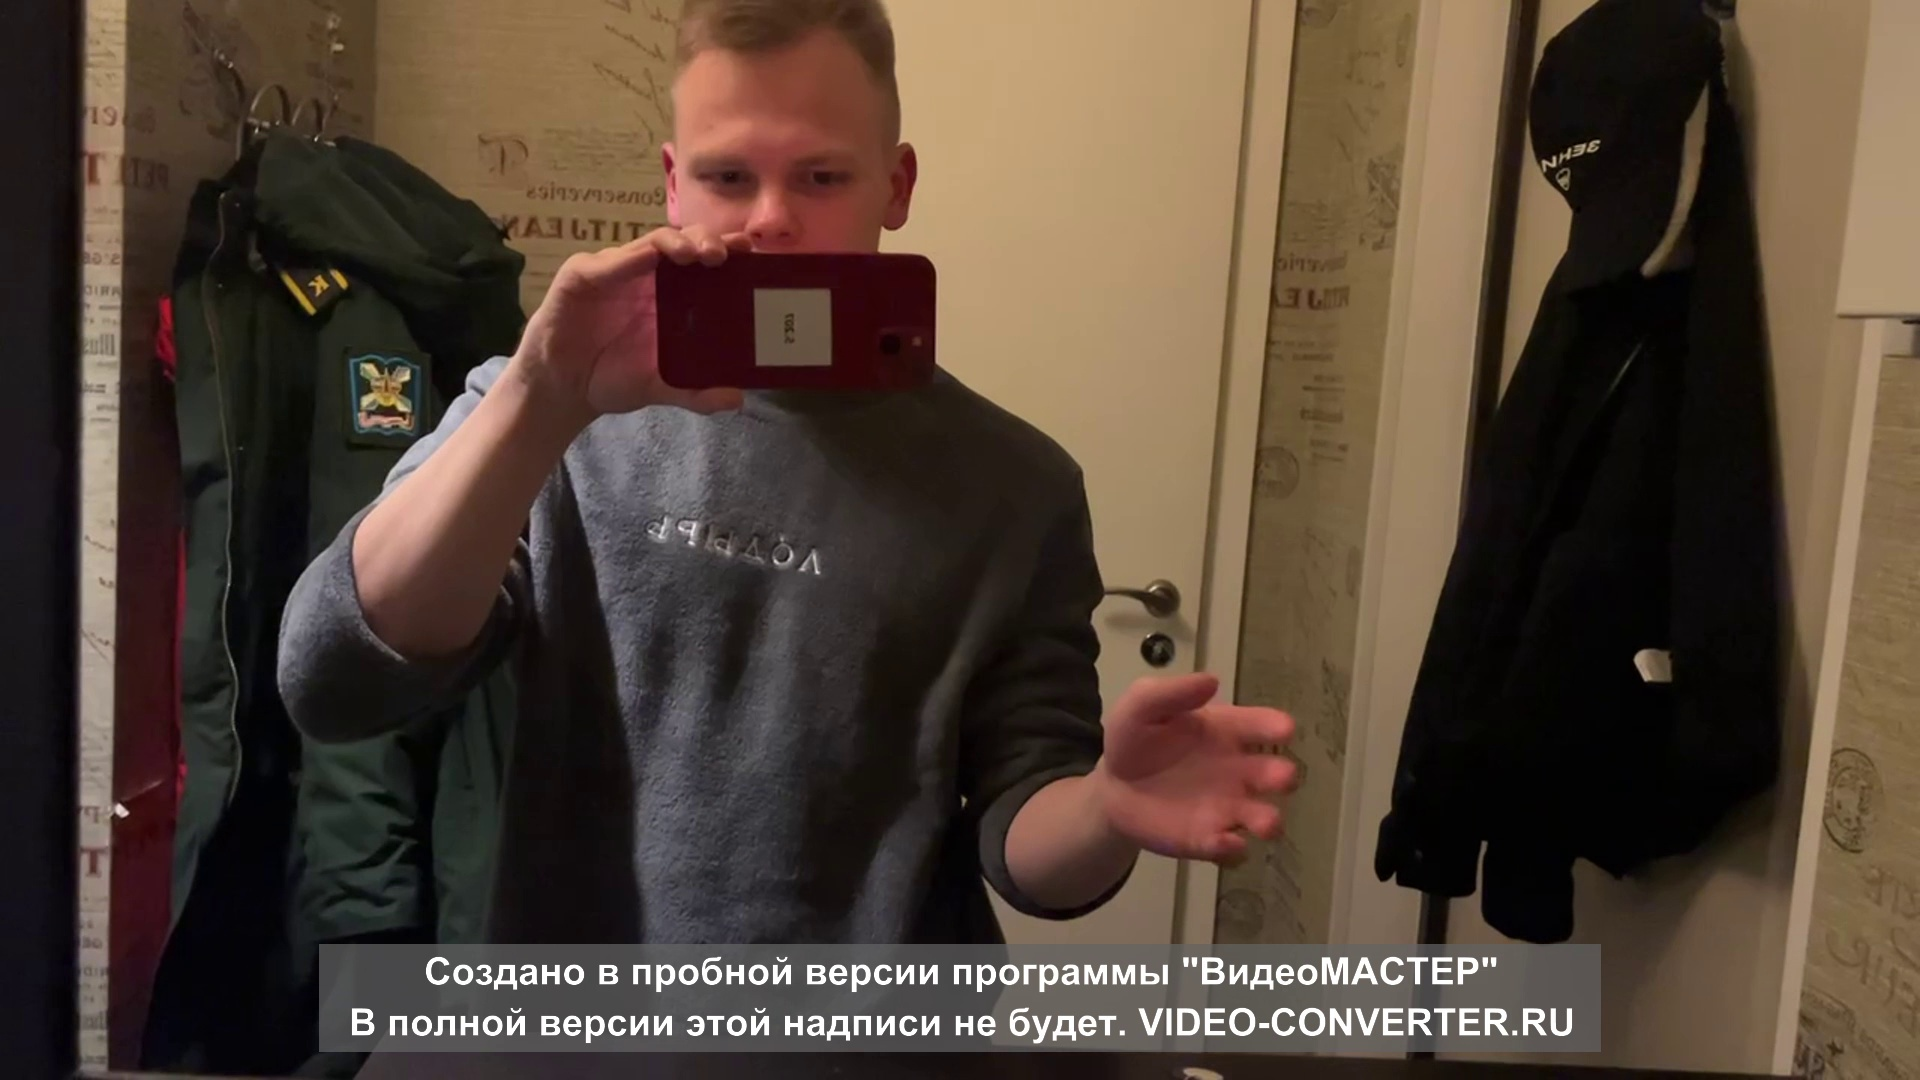Ладонь: (1100, 669, 1300, 869)
